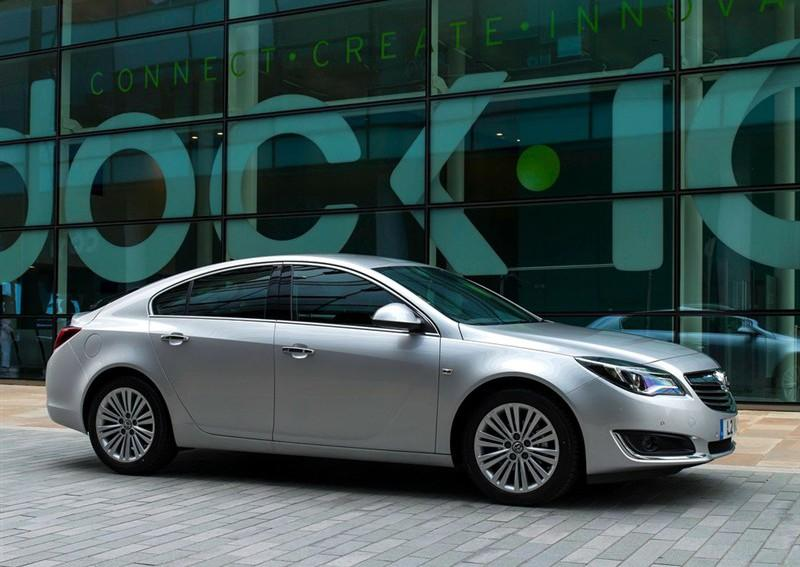Wagon: (46, 253, 740, 507)
